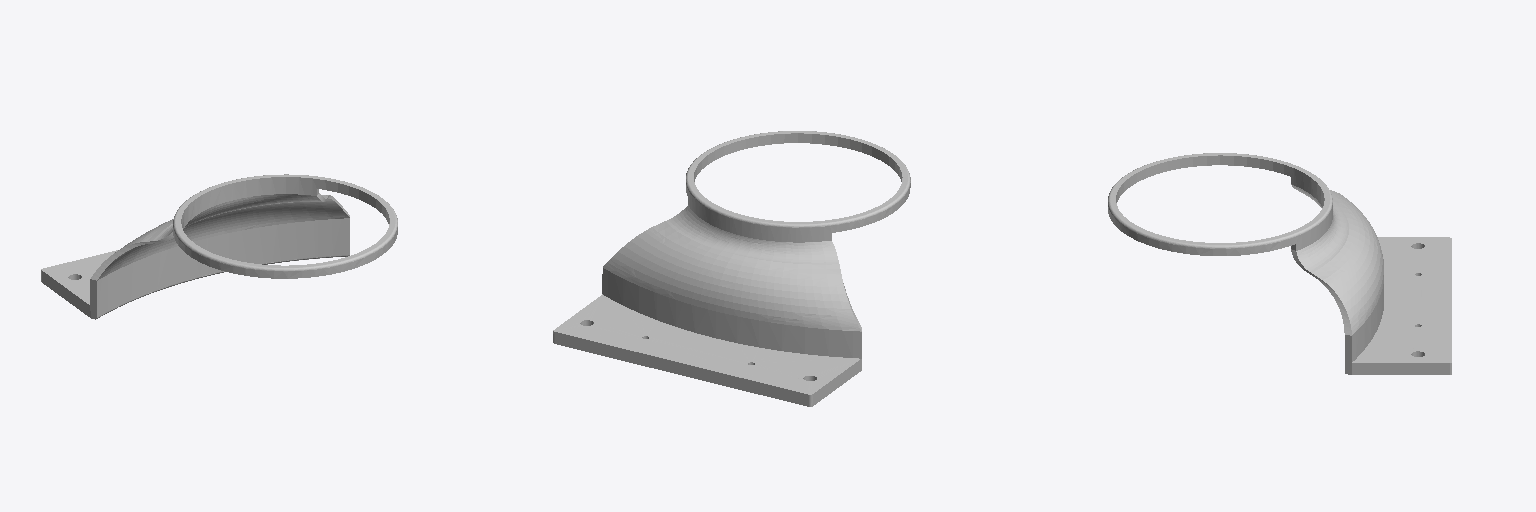
The model's file is pump_camera_holder.obj.
3 renders of one model, left to right at view 1: azimuth 30°, elevation 25°; view 2: azimuth 150°, elevation 25°; view 3: azimuth 270°, elevation 25°, orthographic.
Visible parts, largest first — view 1: pump_camera_holder.001; view 2: pump_camera_holder.001; view 3: pump_camera_holder.001.
Part boxes in pixels (left/top/right/bottom): pump_camera_holder.001: left=41, top=174, right=397, bottom=319; pump_camera_holder.001: left=553, top=131, right=910, bottom=406; pump_camera_holder.001: left=1108, top=153, right=1451, bottom=374.
Size of the model in its own units: 0.1104 by 0.0463 by 0.127.